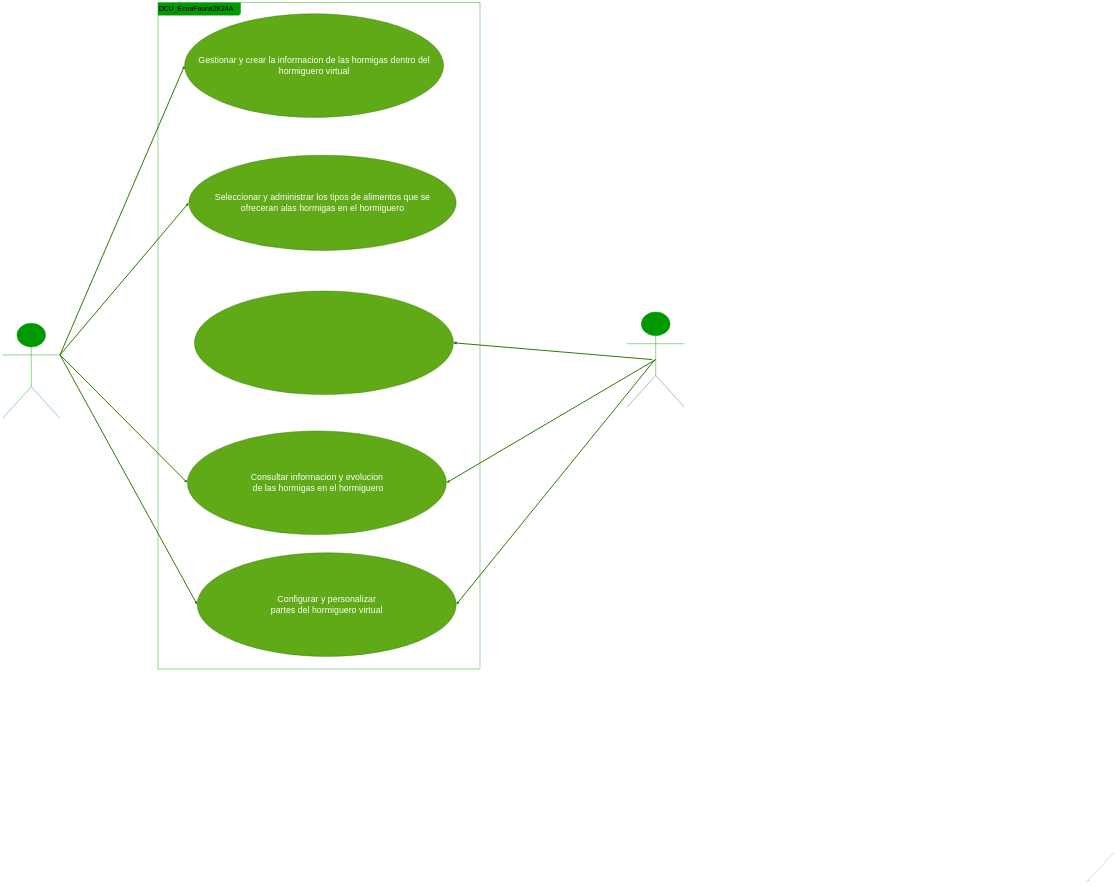
Image size: 1119x886. Some labels were removed from this diagram. Each missing label, with the centre of its shape:
App: point 656,359
Entomólogos: point 31,371
Visualizar el estado general del hormiguero para el analisis: point 324,343
